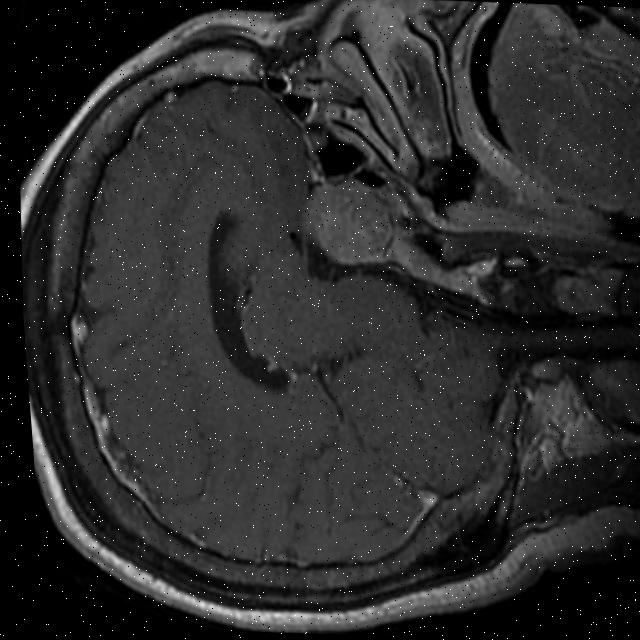Pituitary: (299, 174, 401, 269)
